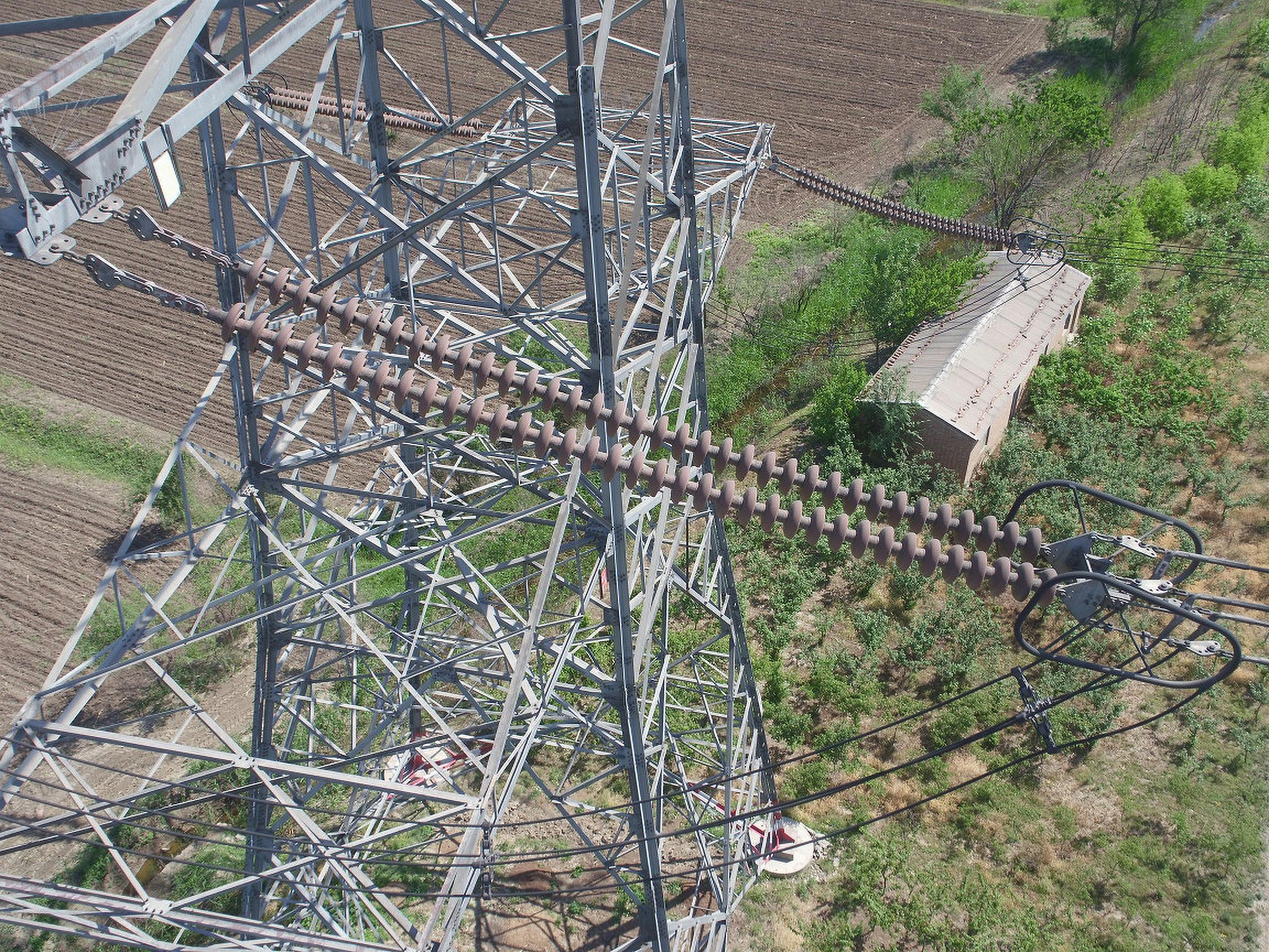insulator: (217, 255, 1062, 610), (793, 164, 1020, 250), (264, 84, 483, 139)
